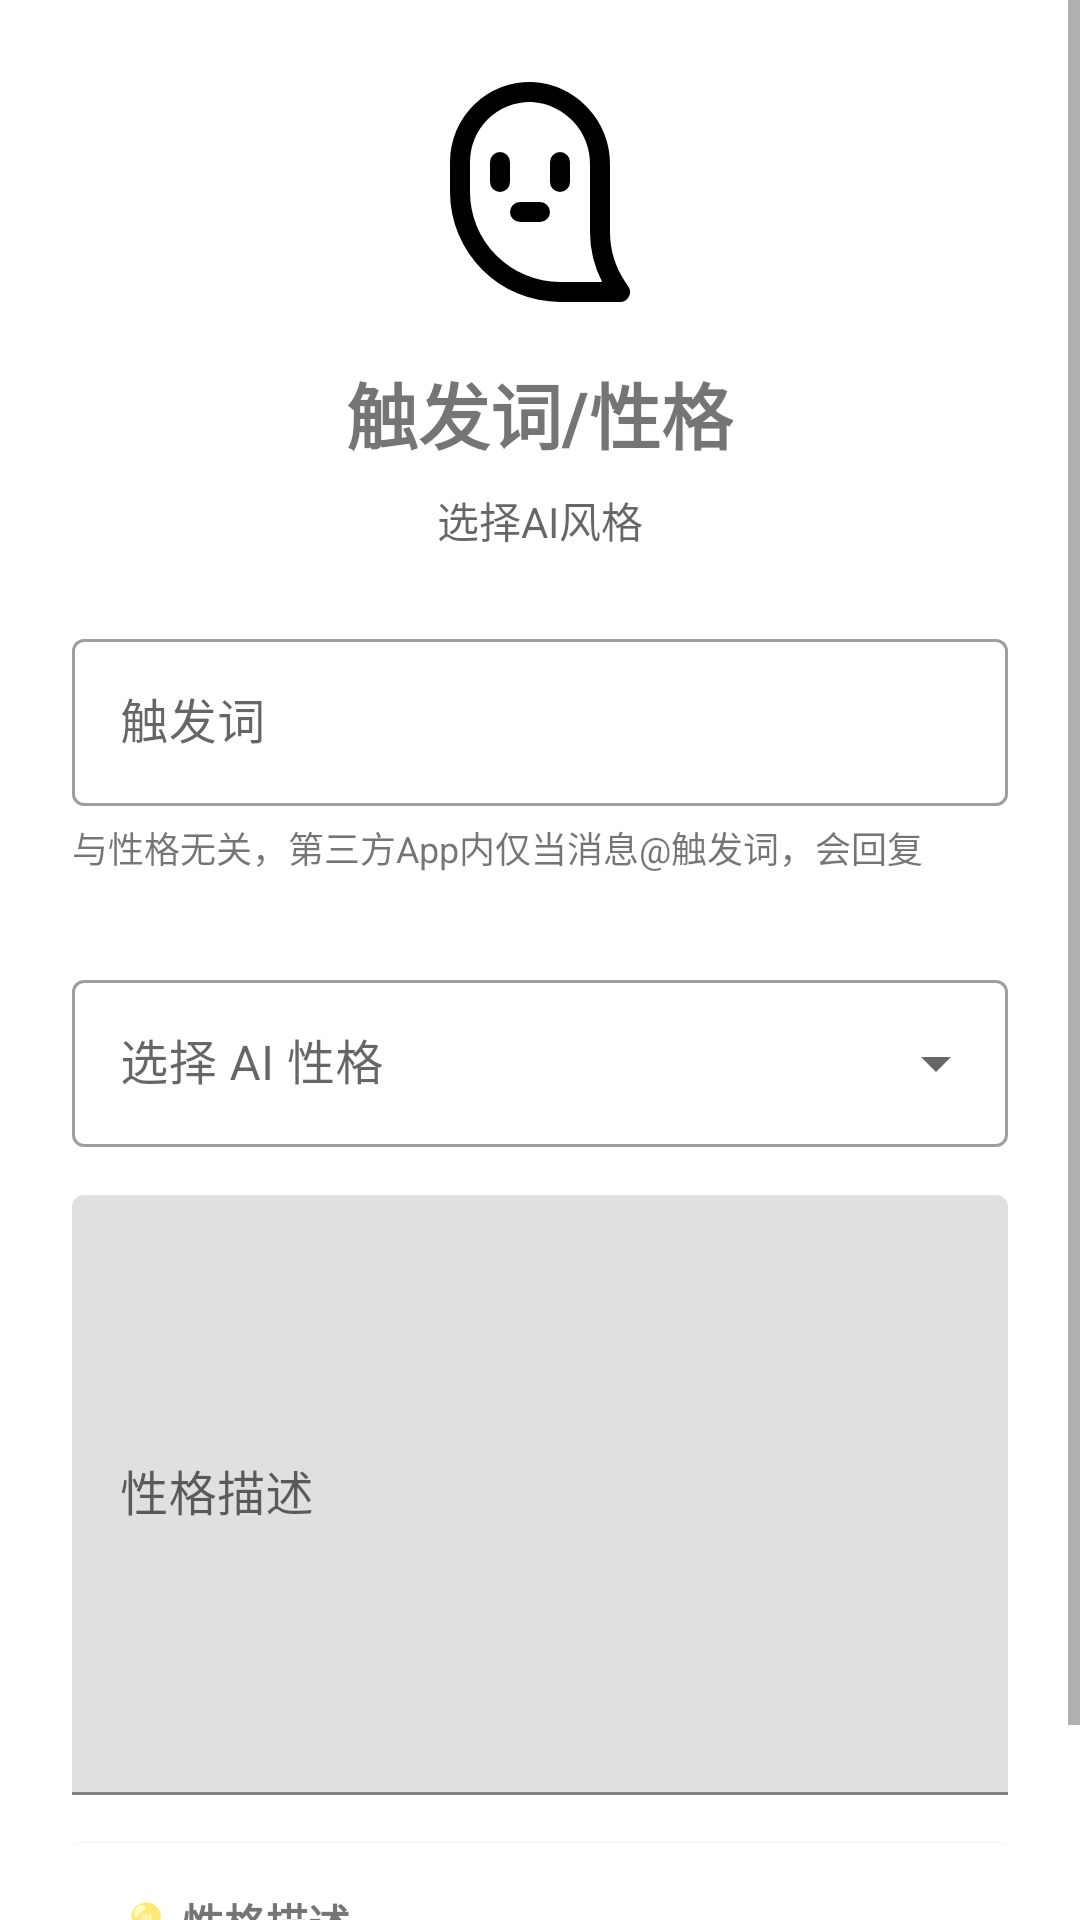

Icon click points for this 1080×1920 phone screenshot, format (x=x, y=y):
soul: (x=540, y=192)
